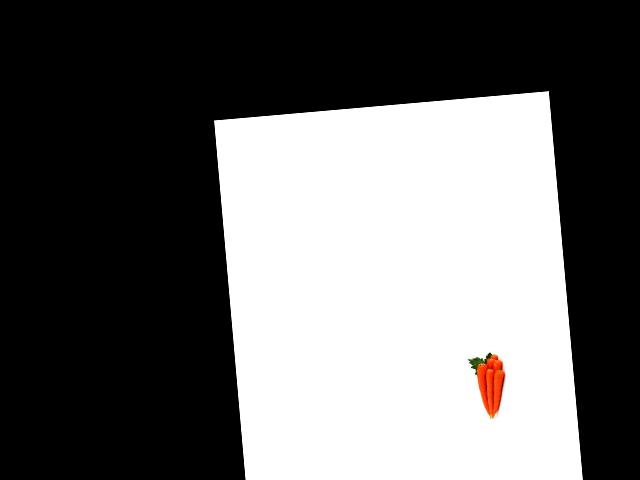carrot: (489, 351, 498, 361)
